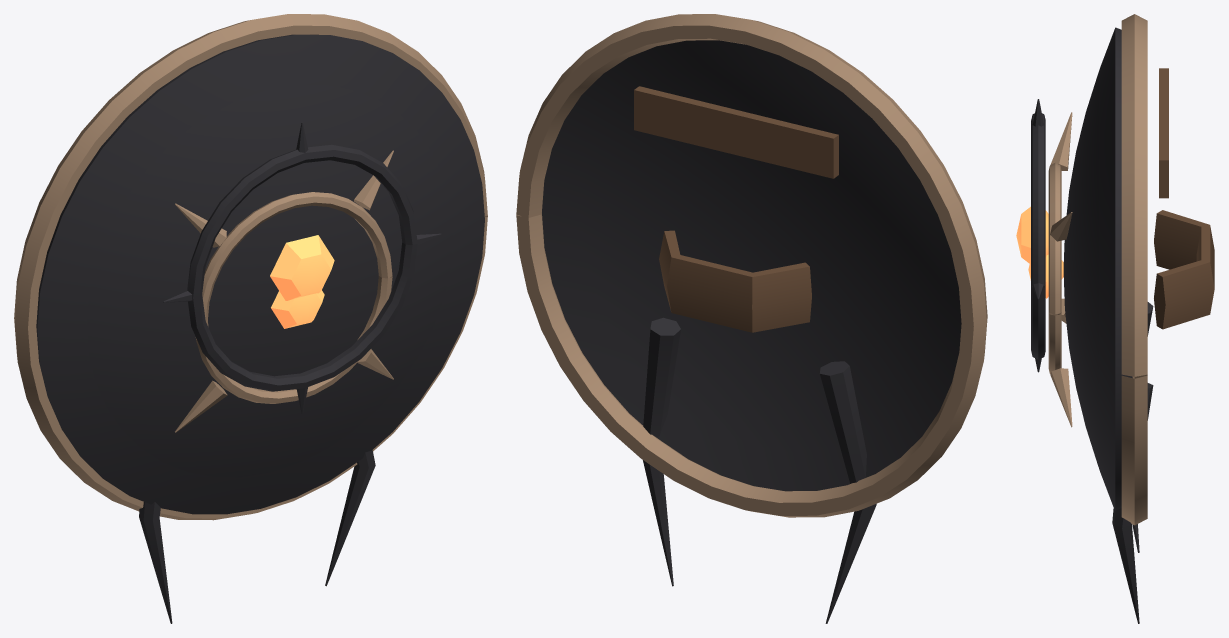
File: boss_ashfall_pilgrim_sub_weapon.glb
3 views of the same model, side by side, from view 1: azimuth 30°, elevation 25°; view 2: azimuth 150°, elevation 25°; view 3: azimuth 270°, elevation 25° (orthographic). The views are drawn at different scales.
Visible parts, largest first — view 1: boss_ashfall_pilgrim_sub_weapon; view 2: boss_ashfall_pilgrim_sub_weapon; view 3: boss_ashfall_pilgrim_sub_weapon.
Part boxes in pixels (box(x1,y1,x2,y2)): boss_ashfall_pilgrim_sub_weapon: box(14, 14, 487, 623); boss_ashfall_pilgrim_sub_weapon: box(516, 14, 987, 623); boss_ashfall_pilgrim_sub_weapon: box(1016, 14, 1214, 623).
Size of the model in its own units: 0.612 by 0.7263 by 0.2372.
